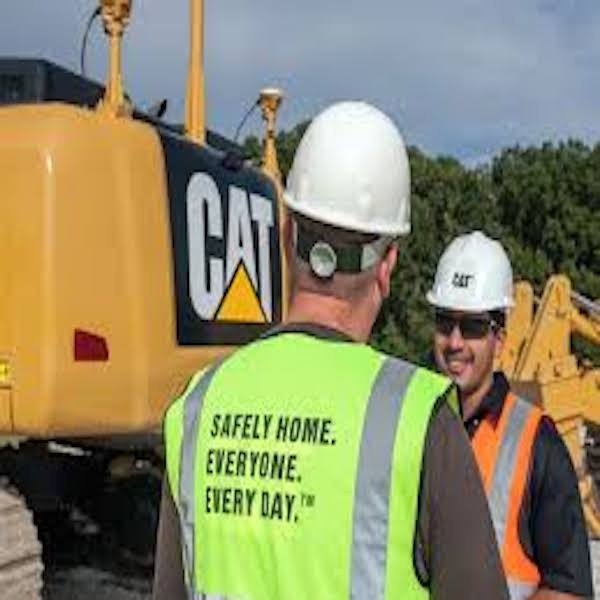helmet: (280, 94, 411, 238), (429, 233, 522, 310)
vest: (178, 336, 439, 600), (472, 392, 547, 595)
